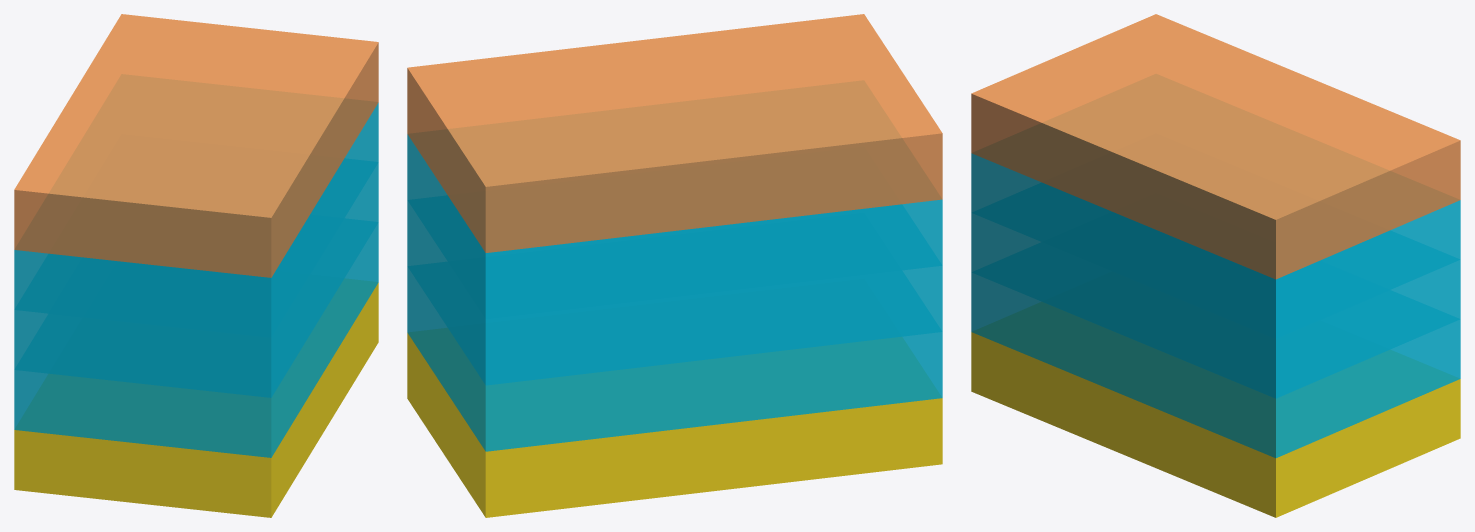
The picture shows the model from 3 angles, left to right: view 1: azimuth 30°, elevation 25°; view 2: azimuth 150°, elevation 25°; view 3: azimuth 270°, elevation 25°; orthographic projection. The views are drawn at different scales.
Parts seen in each view (by area): view 1: Mesh (×5); view 2: Mesh (×5); view 3: Mesh (×5).
Part boxes in pixels (x1,y1,x2,y2): Mesh (×5): [14, 14, 378, 517]; Mesh (×5): [407, 14, 942, 517]; Mesh (×5): [971, 14, 1460, 517].
Size of what is drawn, in the model's own units: 296 by 200 by 298.
